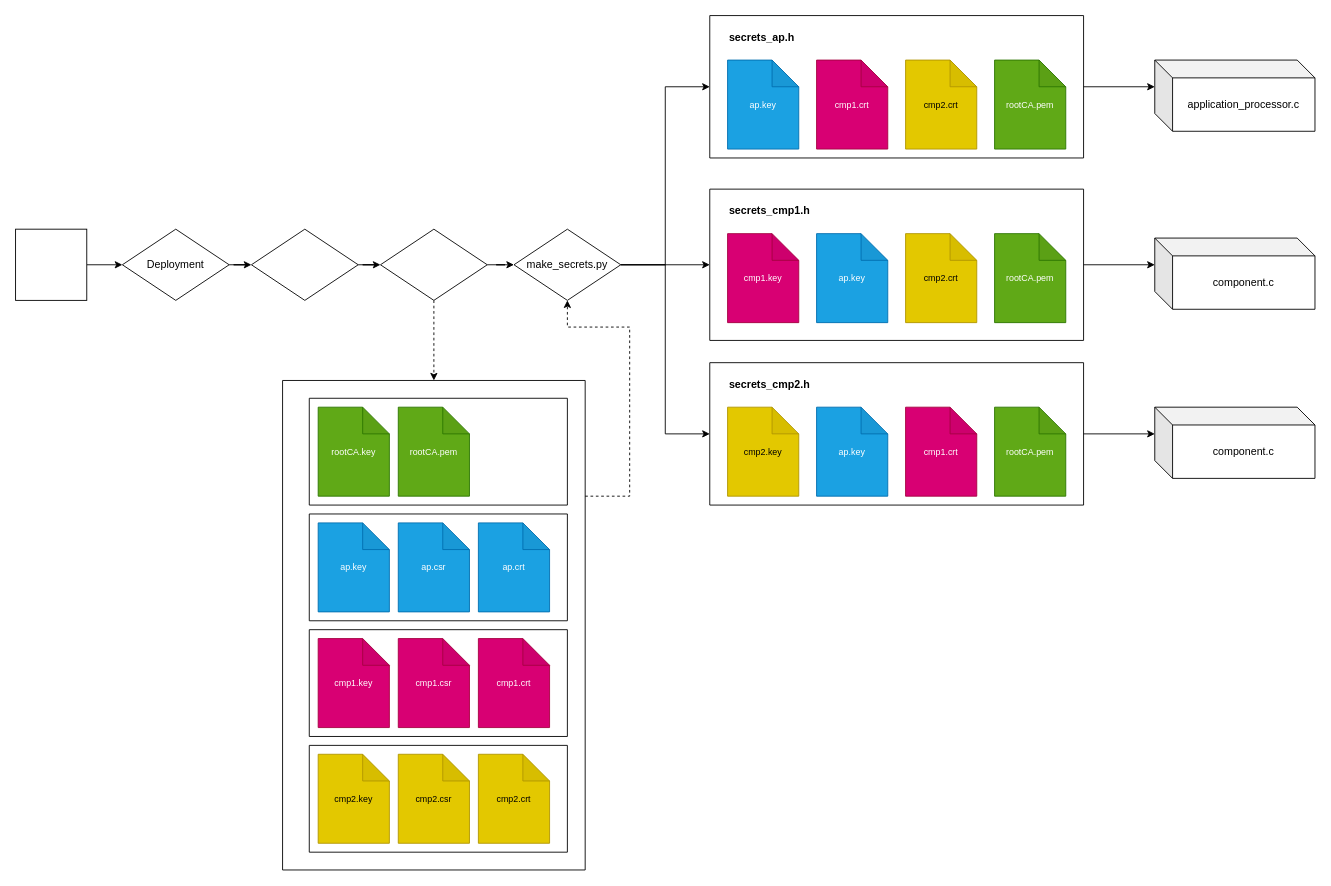
This 1331x886 diagram has some shape labels left out. The shapes that lost their labels are listed below. From the top down, each one's centre as x and y in pixels, then its label:
point 51,264: Host PC
point 304,264: project.mk
point 433,264: gen_certs.sh
